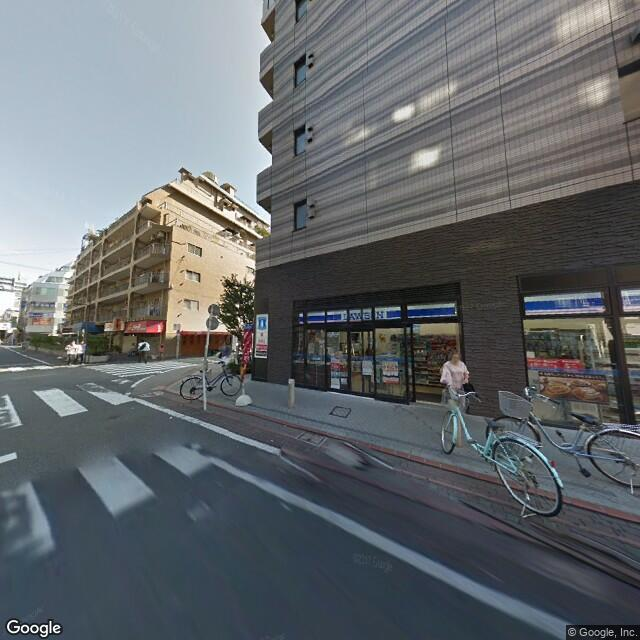lawson: (297, 299, 456, 327), (254, 310, 272, 340)
